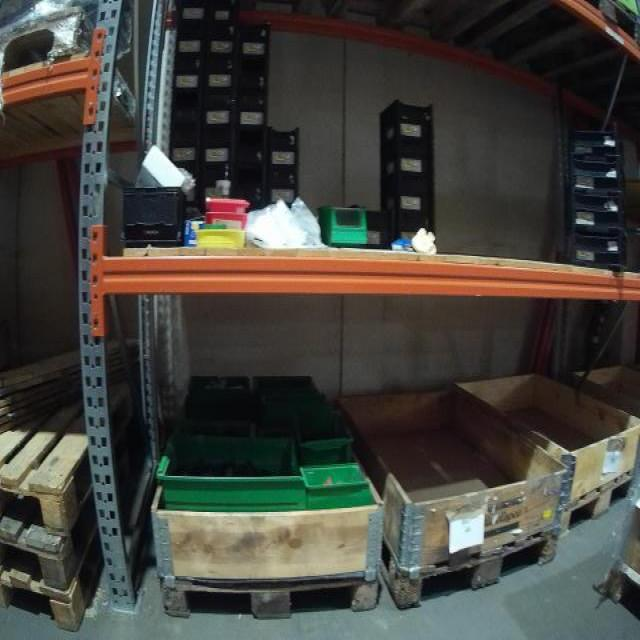pallet: (4, 4, 145, 150), (384, 504, 562, 606), (162, 559, 385, 622), (508, 4, 639, 94), (2, 406, 96, 530), (554, 461, 638, 539), (6, 577, 109, 631), (3, 532, 97, 586), (602, 557, 639, 625)
